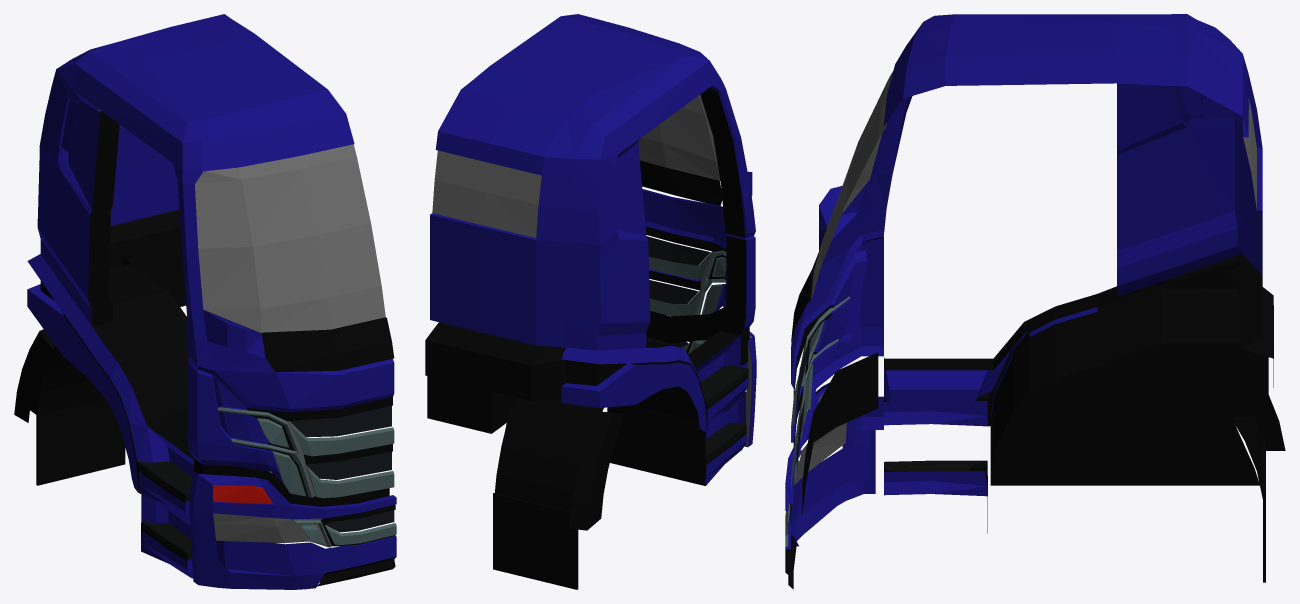
Rendered from xeTai_Dau.obj.
The picture shows the model from 3 angles, left to right: view 1: azimuth 30°, elevation 25°; view 2: azimuth 150°, elevation 25°; view 3: azimuth 270°, elevation 25°; orthographic projection. The views are drawn at different scales.
Parts seen in each view (by area): view 1: Truck_head_Truck_head.L.007_Truck_head_Truck_head.L.008; view 2: Truck_head_Truck_head.L.007_Truck_head_Truck_head.L.008; view 3: Truck_head_Truck_head.L.007_Truck_head_Truck_head.L.008.
Part boxes in pixels (left/top/right/bottom): Truck_head_Truck_head.L.007_Truck_head_Truck_head.L.008: left=14, top=14, right=396, bottom=589; Truck_head_Truck_head.L.007_Truck_head_Truck_head.L.008: left=425, top=14, right=756, bottom=589; Truck_head_Truck_head.L.007_Truck_head_Truck_head.L.008: left=785, top=14, right=1285, bottom=589.
Bounding box in the file's own units: 0.8203 × 2.11 × 1.78.
